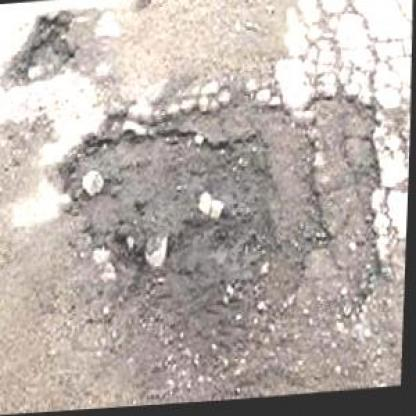pothole: (51, 86, 332, 379), (5, 6, 82, 88)
